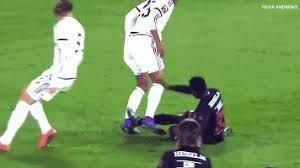Fall-Detected: (126, 70, 234, 144)
